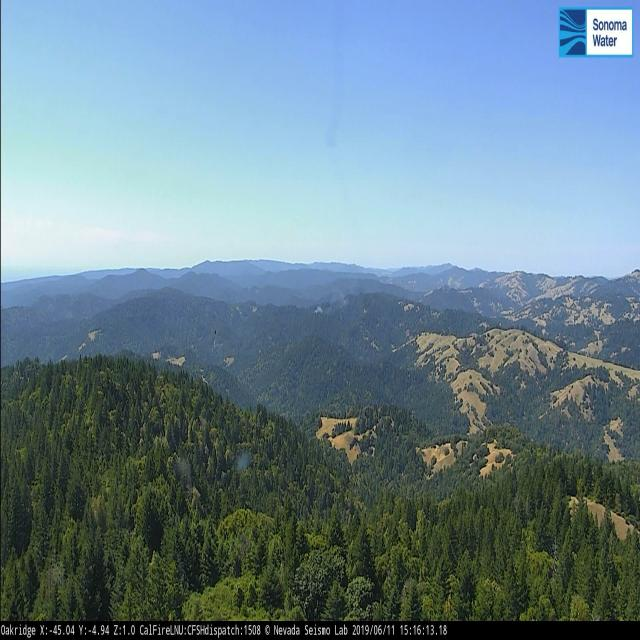smoke: (332, 289, 348, 308), (312, 304, 323, 315)
